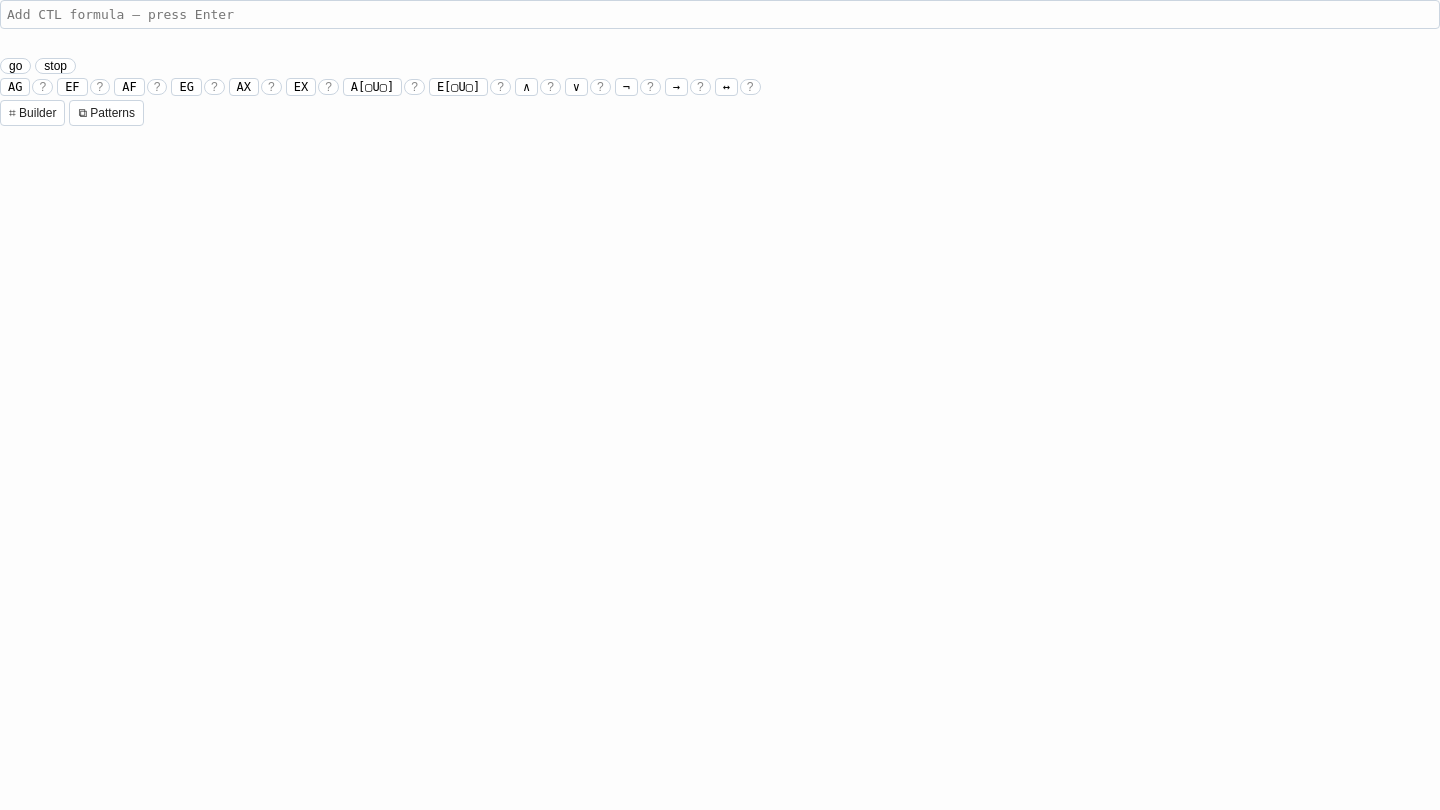
Test case: PatternPicker in the composer › is hidden until opened; opening shows dropdowns and logic toggle
Click the button "⧉ Patterns".
click(107, 113)  # box [70,100,144,126]
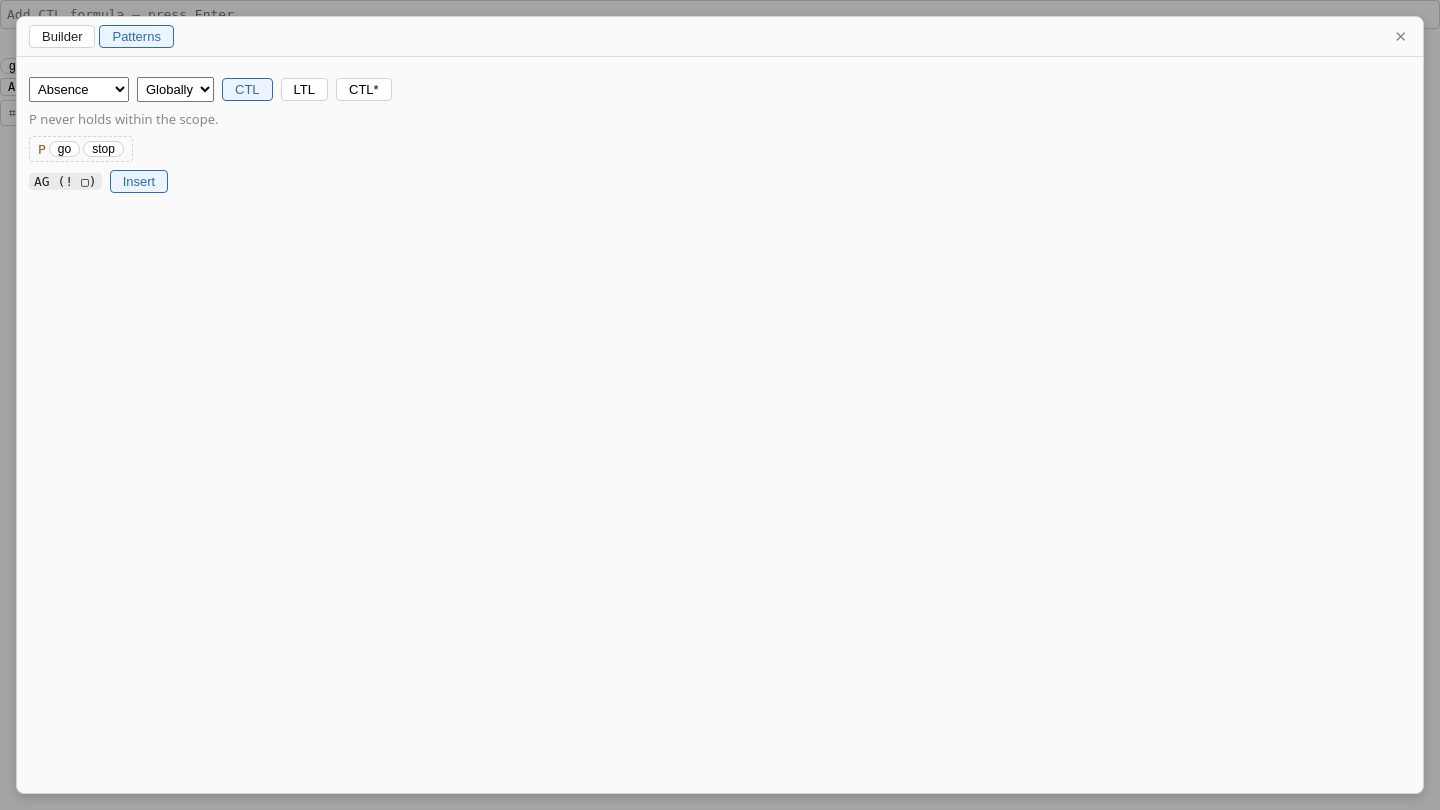
Now the element that starts with "CTL" is shown, box [29,77,392,193]
Now the dropdown named "Pattern" is shown, box [29,77,129,102]
Now the dropdown named "Scope" is shown, box [137,77,214,102]
